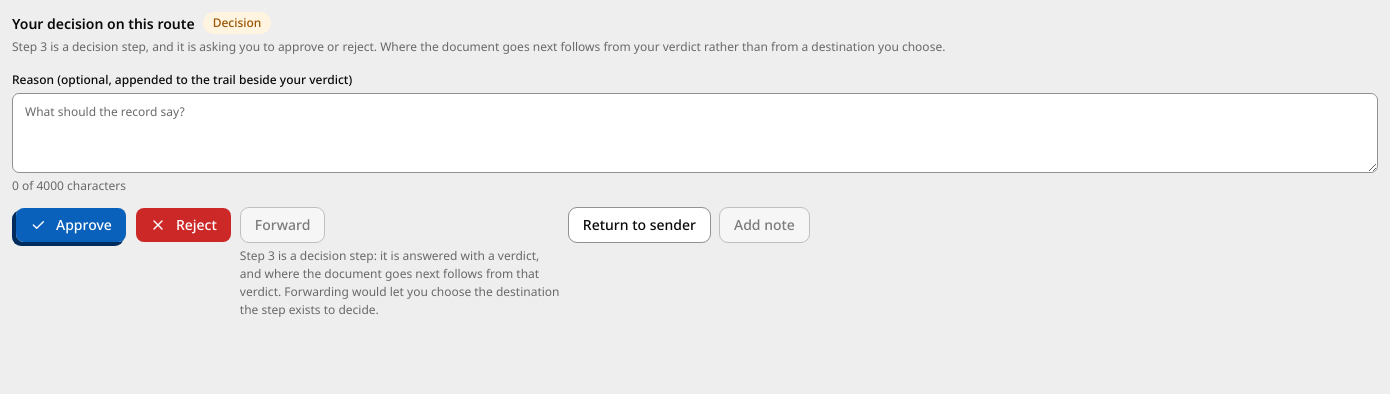
Test: a refused verdict › surfaces the engine’s sentence verbatim and claims no outcome
Click the button "Approve". click: [71, 225]
box: [15, 207, 127, 243]
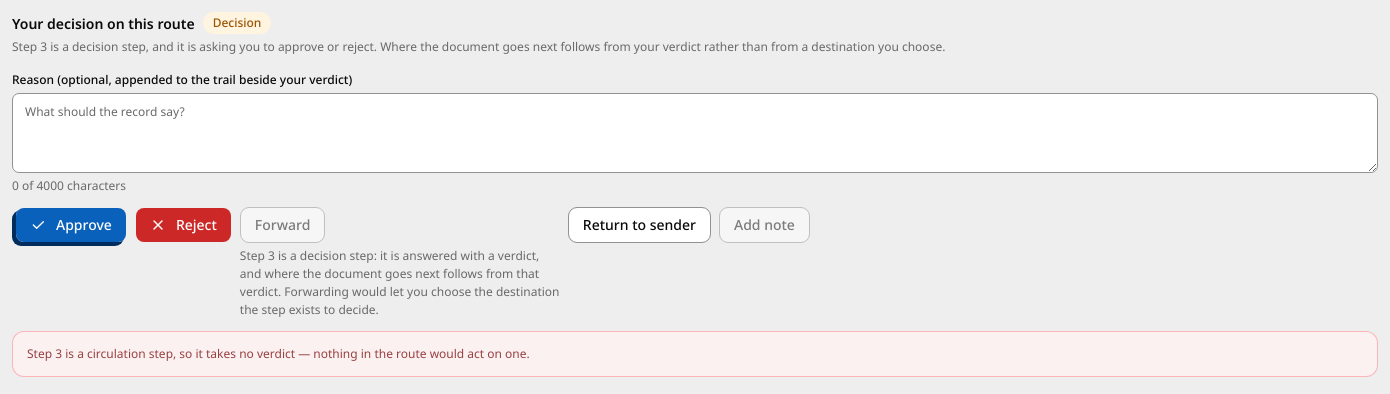
Now the text "so it takes no verdict" is shown, box [27, 345, 530, 362]
